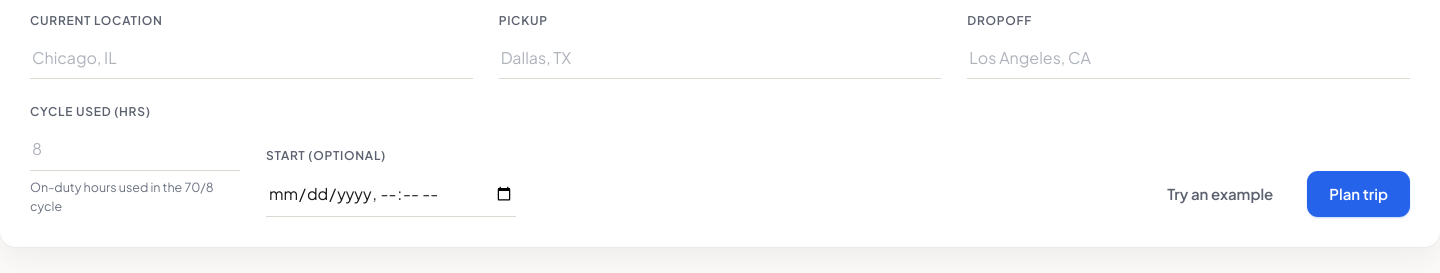
Test: TripForm › blocks submit and shows errors when empty
The width and height of the screenshot is (1440, 273).
Click the button "Plan trip" at coordinates (1359, 194), box [1307,171,1410,217]
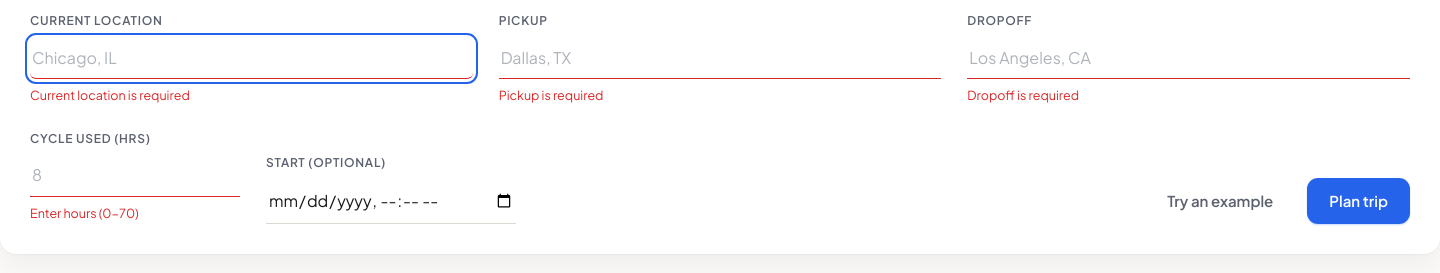
Result: the text "Current location is required" is shown at [30,87,190,103]
